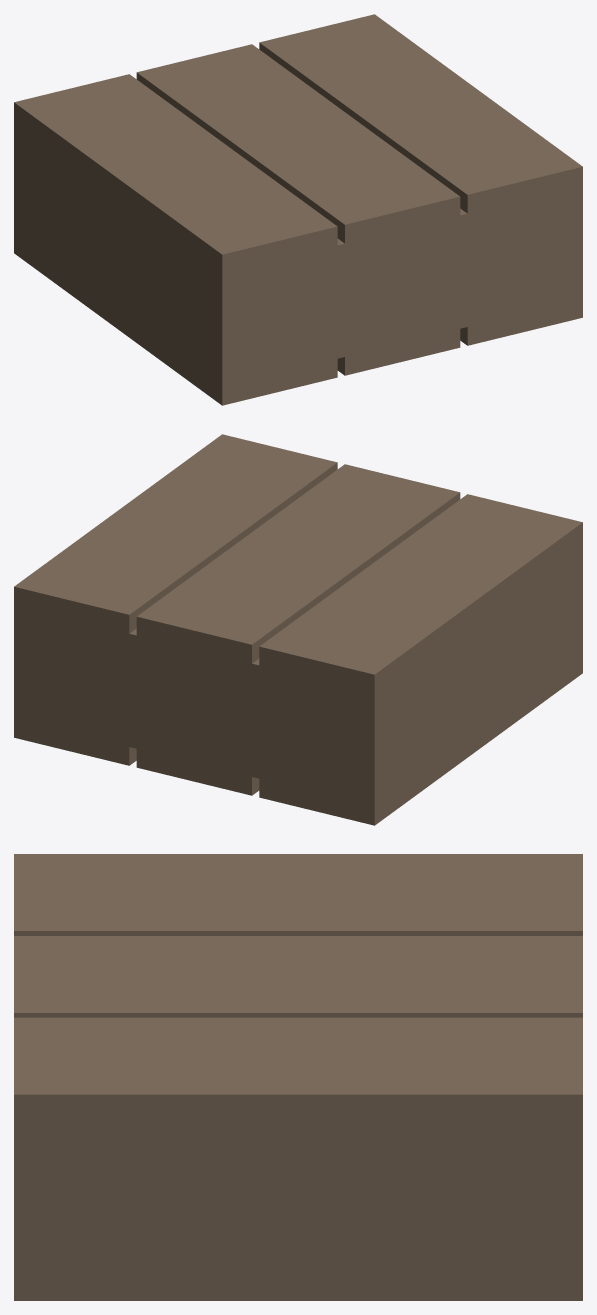
Rendered from foodBox.fbx.
3 renders of one model, top to bottom at view 1: azimuth 30°, elevation 25°; view 2: azimuth 150°, elevation 25°; view 3: azimuth 270°, elevation 25°, orthographic. The views are drawn at different scales.
Visible parts, largest first — view 1: Cube.011, Cube.008; view 2: Cube.011, Cube.008; view 3: Cube.011, Cube.008.
Part boxes in pixels (x1,y1,x2,y2): Cube.011: [14, 14, 582, 273]; Cube.008: [14, 121, 582, 405]; Cube.011: [14, 434, 582, 693]; Cube.008: [14, 541, 582, 825]; Cube.011: [14, 854, 582, 1120]; Cube.008: [14, 1120, 582, 1300].
Bounding box in the file's own units: 100 × 40 × 100.
